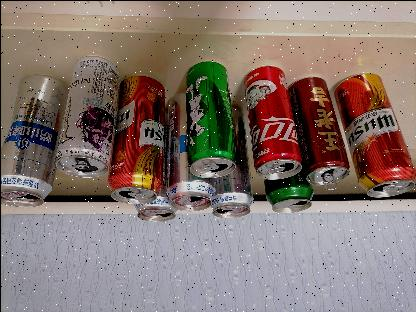Can: (333, 72, 415, 197), (0, 74, 67, 206), (55, 55, 118, 177), (107, 75, 164, 202), (288, 76, 349, 188), (244, 65, 301, 179), (184, 61, 235, 177), (166, 92, 214, 210), (210, 106, 253, 217), (133, 112, 176, 221), (263, 169, 313, 212), (32, 152, 33, 154), (40, 62, 40, 64)
